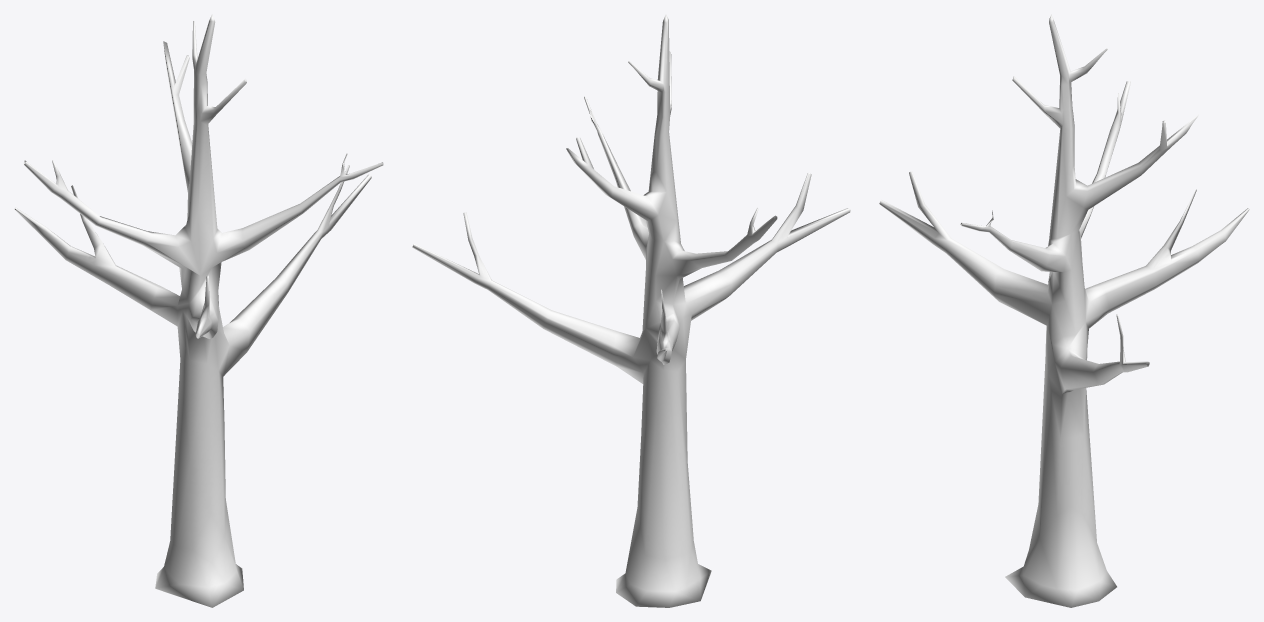
The model's file is tree-no-leaves.glb.
3 renders of one model, left to right at view 1: azimuth 30°, elevation 25°; view 2: azimuth 150°, elevation 25°; view 3: azimuth 270°, elevation 25°, orthographic.
Visible parts, largest first — view 1: Cylinder; view 2: Cylinder; view 3: Cylinder.
Boxes of the visible parts, x1,y1,x2,y2 form: Cylinder: (14, 14, 383, 607); Cylinder: (412, 14, 850, 607); Cylinder: (879, 14, 1249, 607).
Bounding box in the file's own units: 2.52 × 3.85 × 2.25.
1 material, 1 textured.
